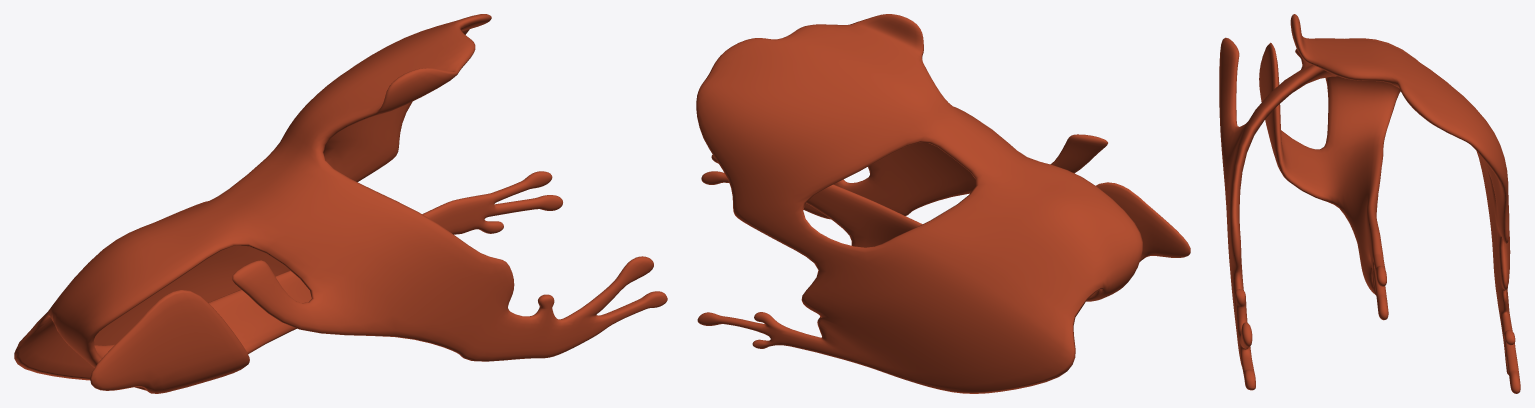
The model's file is Rotation7Frog.fbx.
3 renders of one model, left to right at view 1: azimuth 30°, elevation 25°; view 2: azimuth 150°, elevation 25°; view 3: azimuth 270°, elevation 25°, orthographic. The views are drawn at different scales.
Parts seen in each view (by area): view 1: Result.001; view 2: Result.001; view 3: Result.001.
Part boxes in pixels (box(x1,y1,x2,y2)): Result.001: box(14, 14, 667, 393); Result.001: box(696, 14, 1190, 393); Result.001: box(1219, 14, 1520, 393).
Size of the model in its own units: 16251 by 9323 by 7640.
